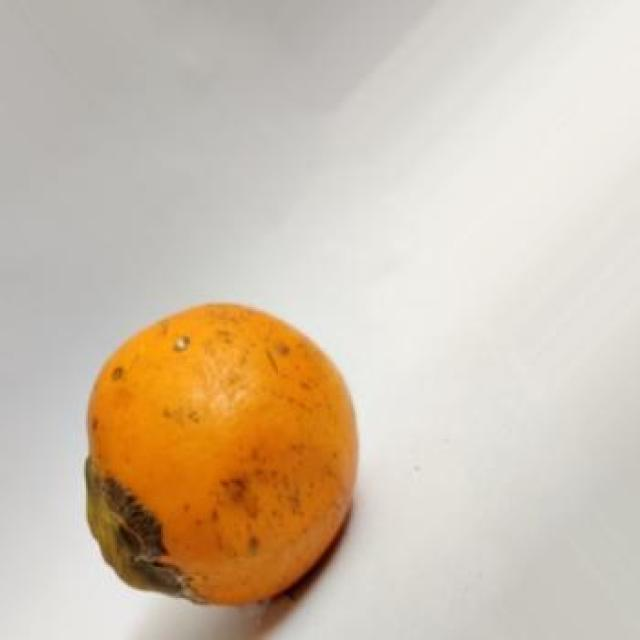good: (86, 304, 360, 609)
